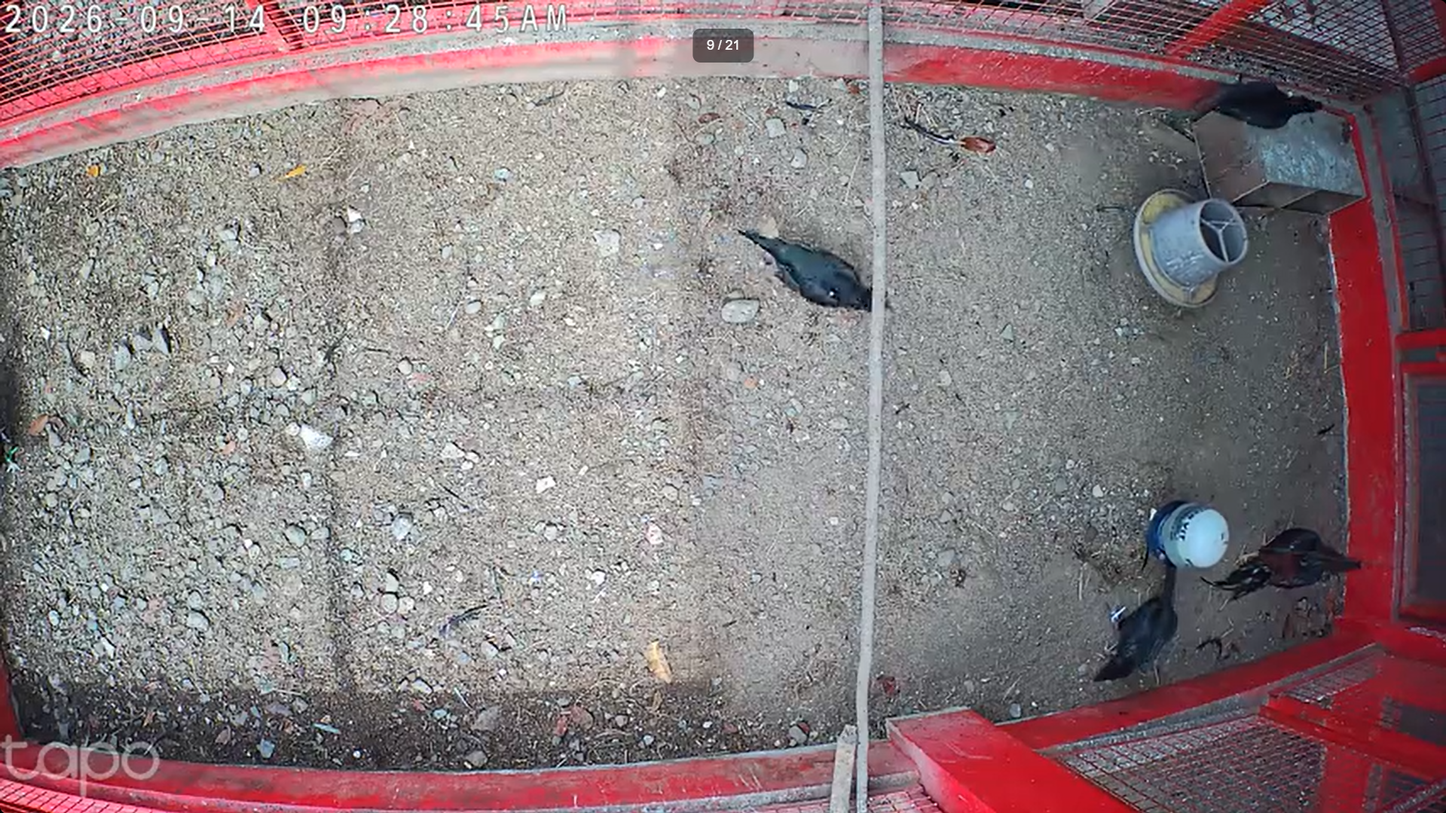Chicken: (1091, 555, 1181, 691)
